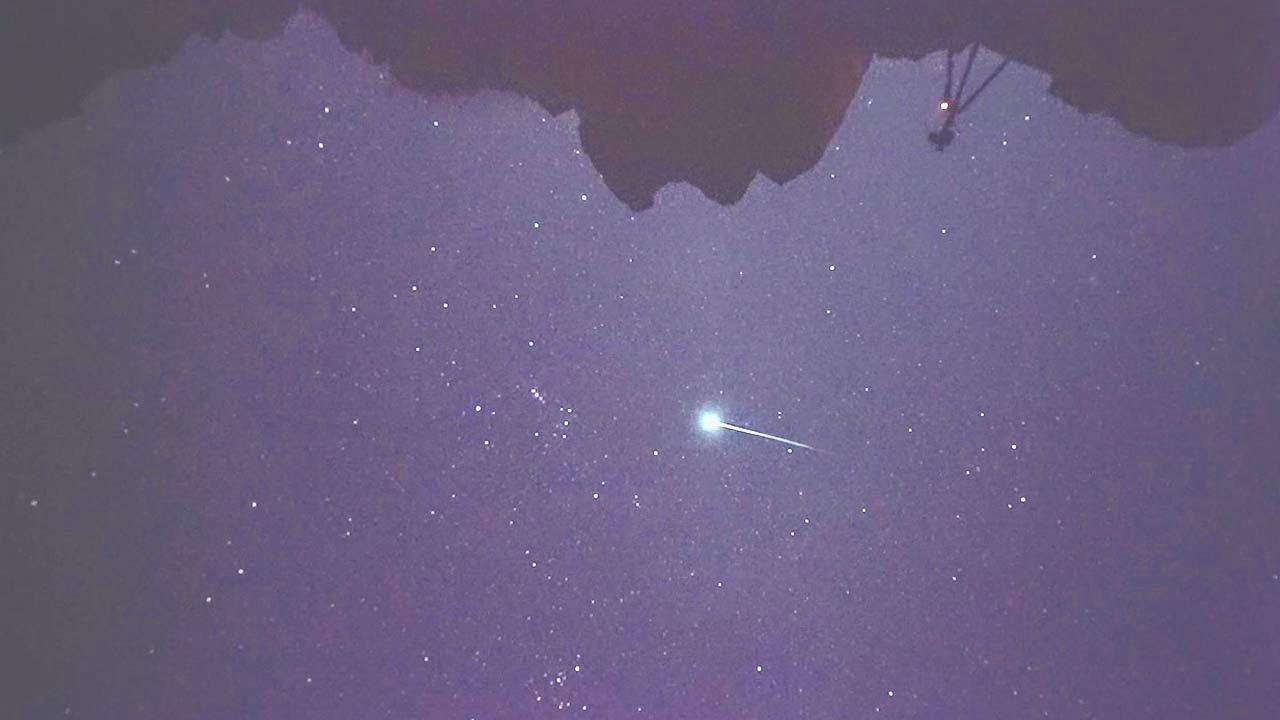meteorite: (652, 403, 851, 464)
